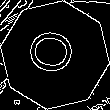O_E: (26, 30, 84, 80)
